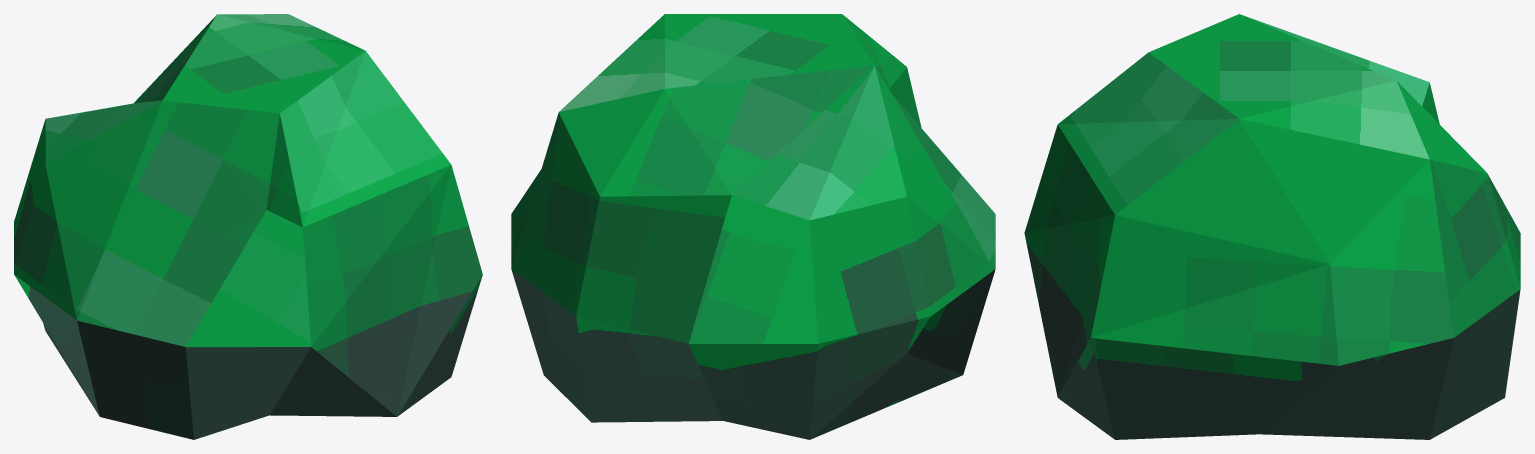
Rendered from SmallBush.fbx.
3 renders of one model, left to right at view 1: azimuth 30°, elevation 25°; view 2: azimuth 150°, elevation 25°; view 3: azimuth 270°, elevation 25°, orthographic. The views are drawn at different scales.
Parts seen in each view (by area): view 1: Small; view 2: Small; view 3: Small.
Boxes of the visible parts, x1=… form: Small: x1=14, y1=14, x2=482, y2=439; Small: x1=511, y1=14, x2=995, y2=439; Small: x1=1024, y1=14, x2=1520, y2=439.
Size of the model in its own units: 43.75 by 29.88 by 43.75.
1 material, 1 textured.
